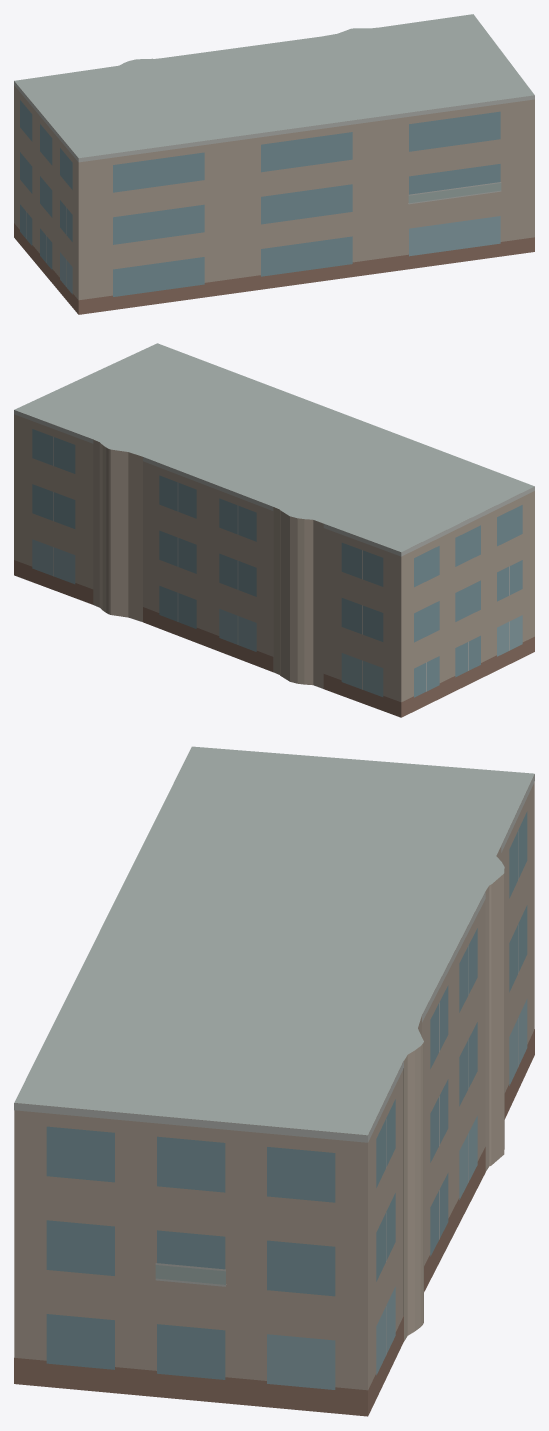
File: survey-upis-33012403.glb
3 views of the same model, one above another, from view 1: azimuth 30°, elevation 25°; view 2: azimuth 150°, elevation 25°; view 3: azimuth 270°, elevation 25° (orthographic). The views are drawn at different scales.
Parts seen in each view (by area): view 1: survey-upis-33012403.tmp; view 2: survey-upis-33012403.tmp; view 3: survey-upis-33012403.tmp.
Part boxes in pixels (x1,y1,x2,y2): survey-upis-33012403.tmp: (14, 14, 534, 314); survey-upis-33012403.tmp: (14, 343, 534, 717); survey-upis-33012403.tmp: (14, 746, 534, 1416).
Size of the model in its own units: 27.15 by 9.15 by 15.37.
